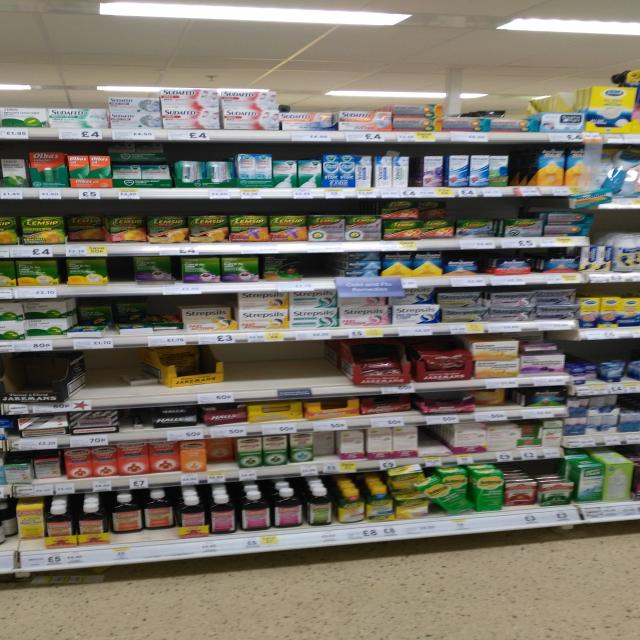void: (0, 354, 43, 413), (47, 353, 83, 412), (310, 341, 346, 400), (86, 352, 120, 410), (278, 344, 310, 401), (248, 346, 274, 404), (217, 344, 243, 399), (421, 425, 450, 466), (306, 254, 337, 288), (514, 154, 537, 198)
